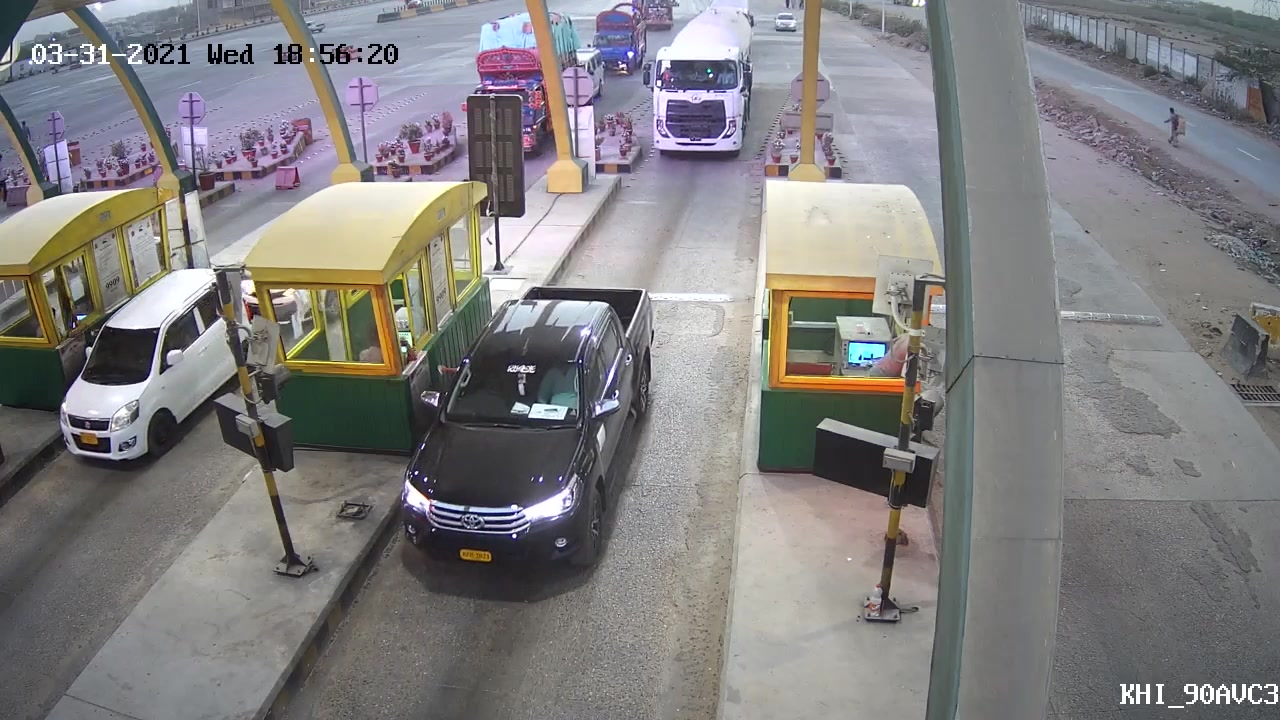F1: (397, 286, 659, 571)
